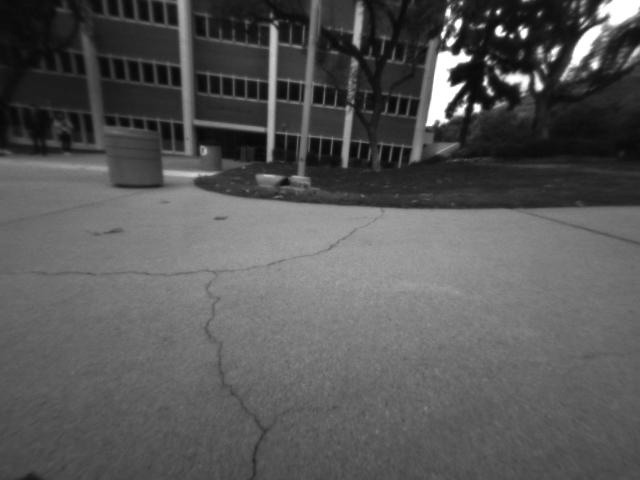trashcan: (99, 117, 168, 192), (196, 140, 228, 175)
